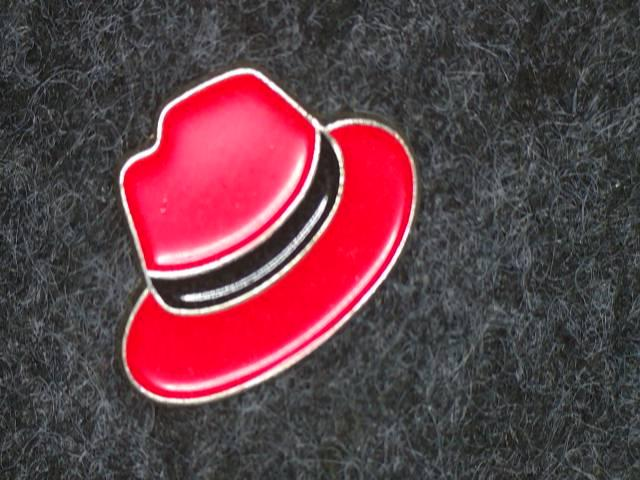Red-Hat: (56, 60, 477, 420)
